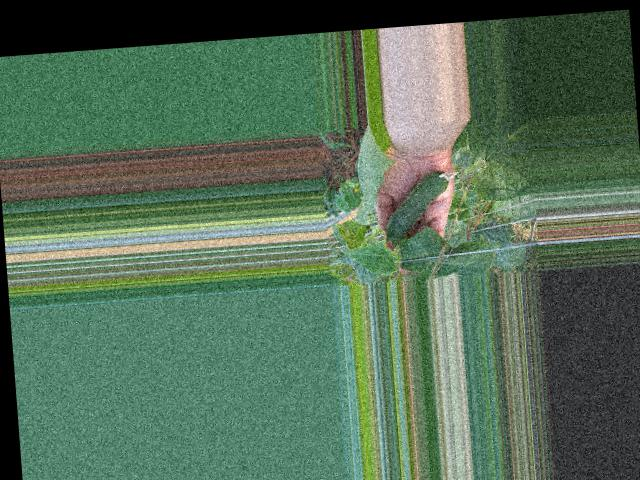cucumber: (382, 169, 463, 241)
